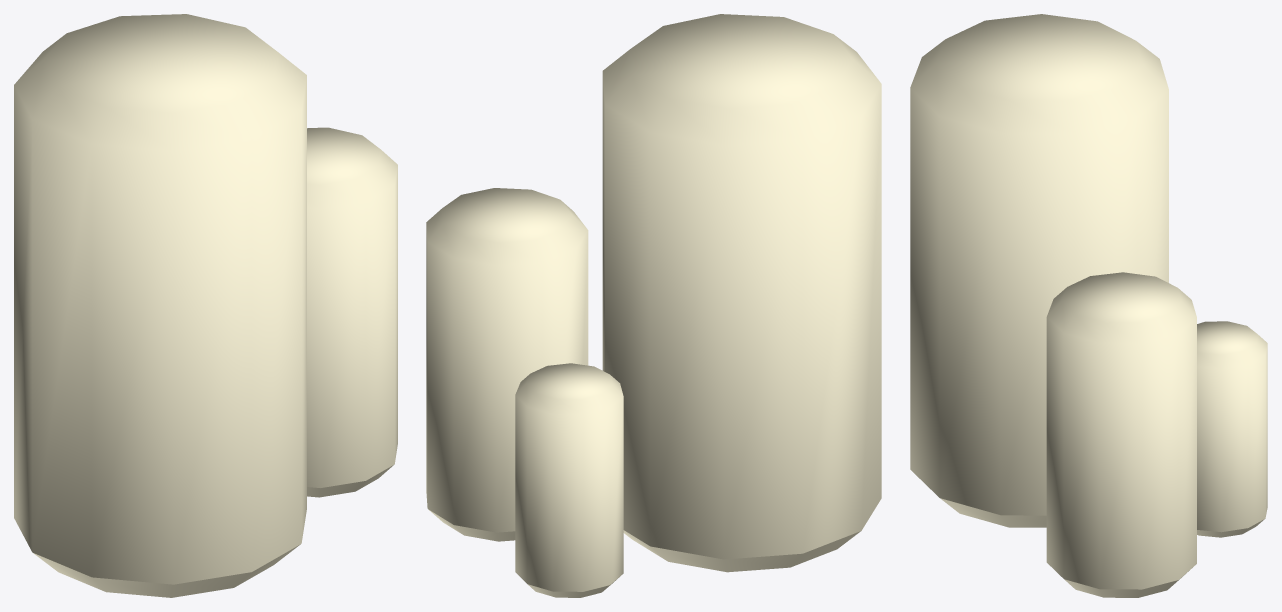
The model's file is Velas_juntas.fbx.
3 renders of one model, left to right at view 1: azimuth 30°, elevation 25°; view 2: azimuth 150°, elevation 25°; view 3: azimuth 270°, elevation 25°, orthographic. The views are drawn at different scales.
Parts seen in each view (by area): view 1: velas_juntas; view 2: velas_juntas; view 3: velas_juntas.
Boxes of the visible parts, <box> form: velas_juntas: <box>14,14,397,597</box>; velas_juntas: <box>426,14,881,597</box>; velas_juntas: <box>910,14,1267,597</box>.
Size of the model in its own units: 74.18 by 86.72 by 65.39.
1 material, 1 textured.
